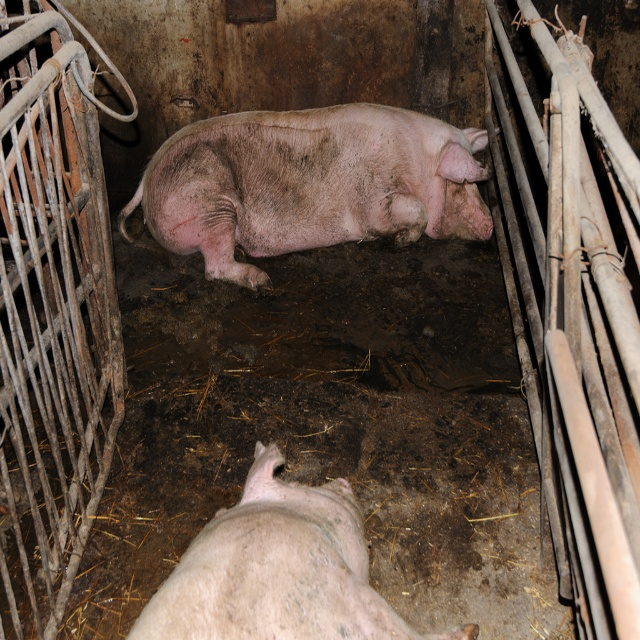Pig: (118, 101, 493, 295), (122, 440, 480, 639)
